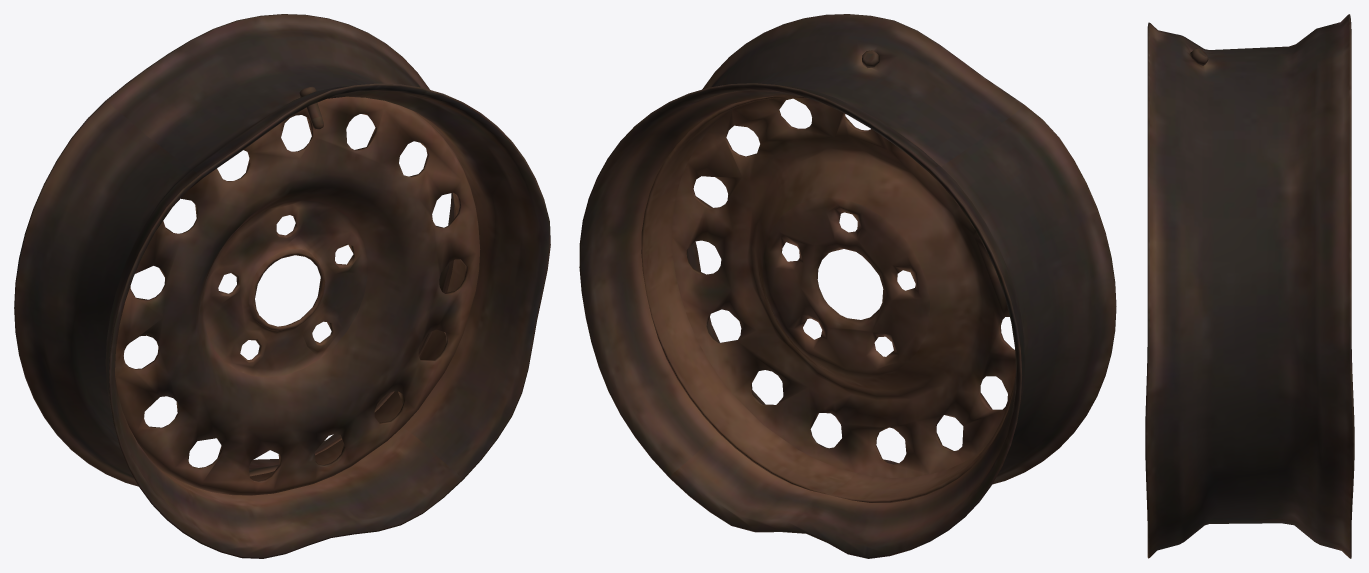
File: rusted_wheel_rim_01.glb
3 views of the same model, side by side, from view 1: azimuth 30°, elevation 25°; view 2: azimuth 150°, elevation 25°; view 3: azimuth 270°, elevation 25° (orthographic). The views are drawn at different scales.
Parts seen in each view (by area): view 1: rusted_wheel_rim_01; view 2: rusted_wheel_rim_01; view 3: rusted_wheel_rim_01.
Part boxes in pixels (left/top/right/bottom): rusted_wheel_rim_01: left=14, top=14, right=550, bottom=558; rusted_wheel_rim_01: left=579, top=14, right=1116, bottom=558; rusted_wheel_rim_01: left=1145, top=14, right=1354, bottom=558.
Bounding box in the file's own units: 0.4029 × 0.3955 × 0.1541.
1 material, 1 textured.
